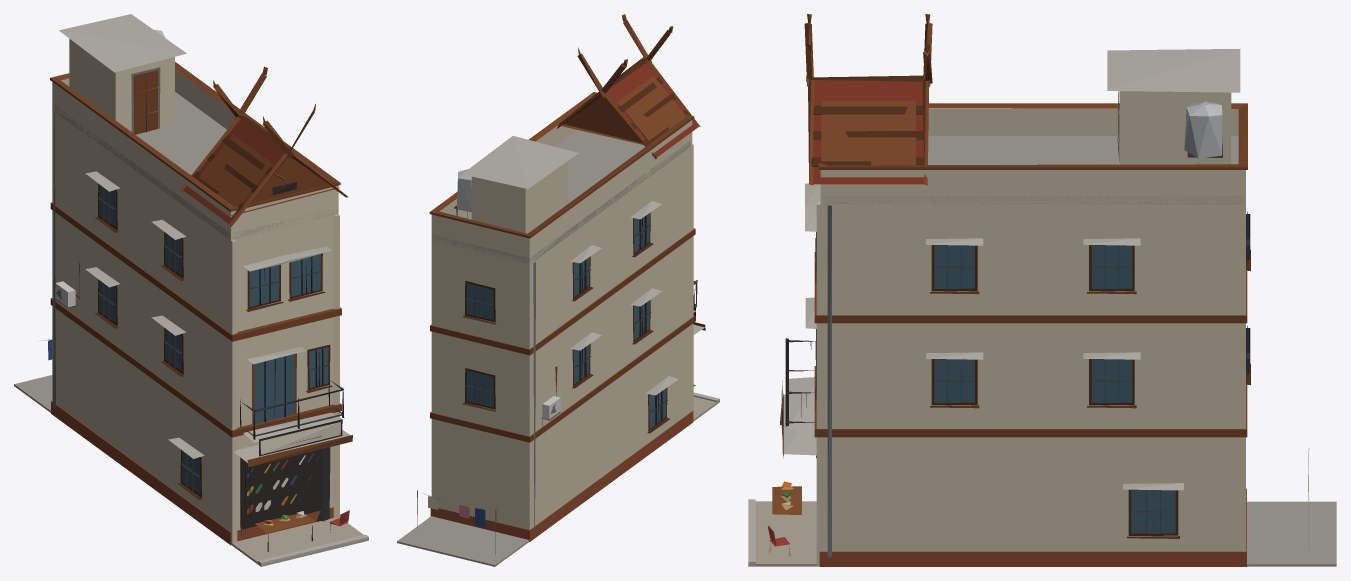
Rendered from bay2_one.glb.
3 renders of one model, left to right at view 1: azimuth 30°, elevation 25°; view 2: azimuth 150°, elevation 25°; view 3: azimuth 270°, elevation 25°, orthographic. The views are drawn at different scales.
Parts seen in each view (by area): view 1: body, windows; view 2: body, windows; view 3: body, windows.
Part boxes in pixels (x1,y1,x2,y2): body: (14,14,368,566); windows: (98,182,328,529); body: (397,14,719,566); windows: (466,213,666,428); body: (748,14,1336,566); windows: (934,212,1247,533).
Bounding box in the file's own units: 4.84 × 15.1 × 15.9.
